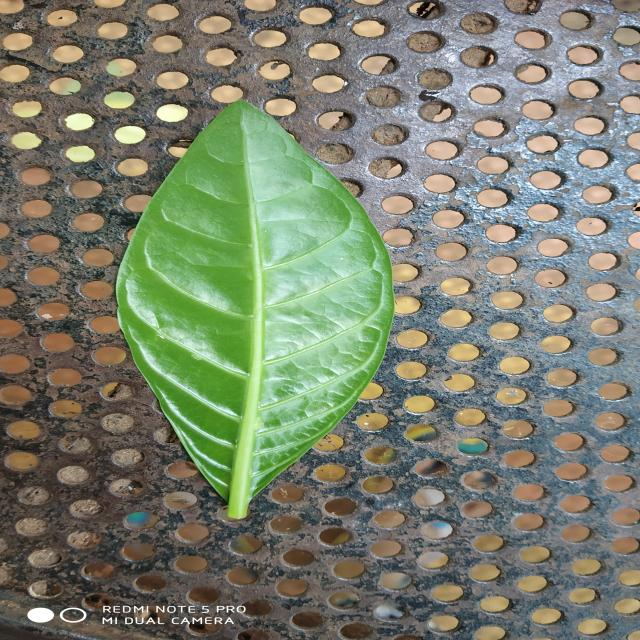nooni: (116, 100, 393, 519)
